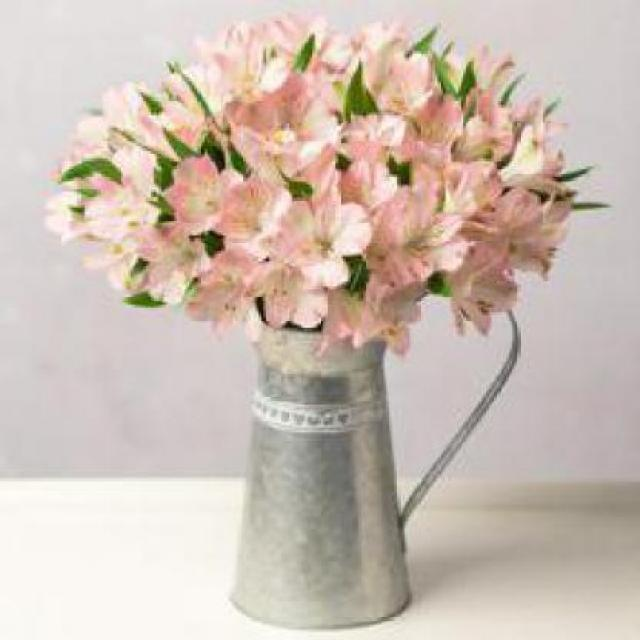Flower: (230, 71, 341, 187), (266, 182, 374, 289), (376, 187, 472, 284), (162, 154, 243, 238), (134, 220, 212, 305), (335, 110, 428, 175), (185, 263, 262, 339), (328, 158, 400, 231), (361, 51, 436, 120), (448, 274, 517, 335), (440, 158, 505, 220), (517, 126, 569, 195), (489, 186, 546, 246)
